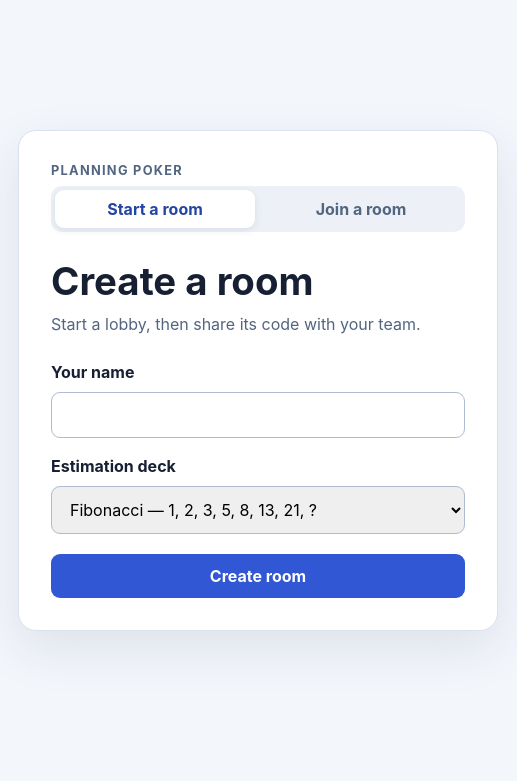
Test: lobby synchronization › updates the participant list after polling
Type "Alex" into the field labelled "Your name". click: x=258, y=414
box: [51,392,465,438]
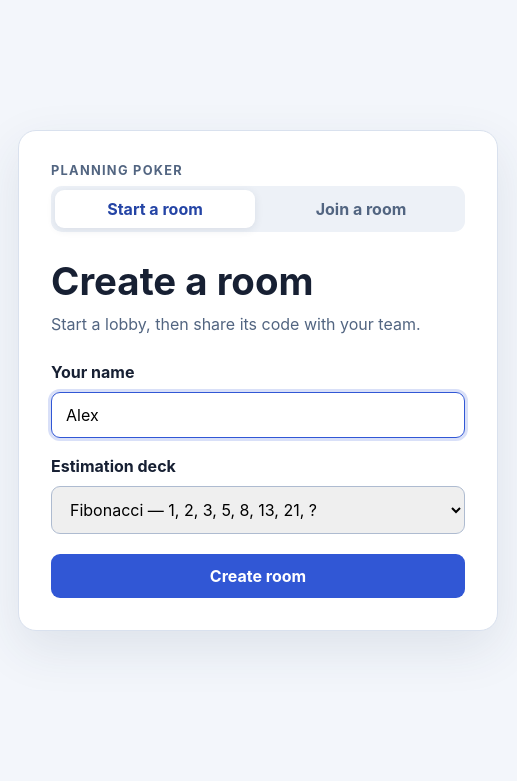
Click the button "Create room". click: x=258, y=576
box: [51,554,465,598]
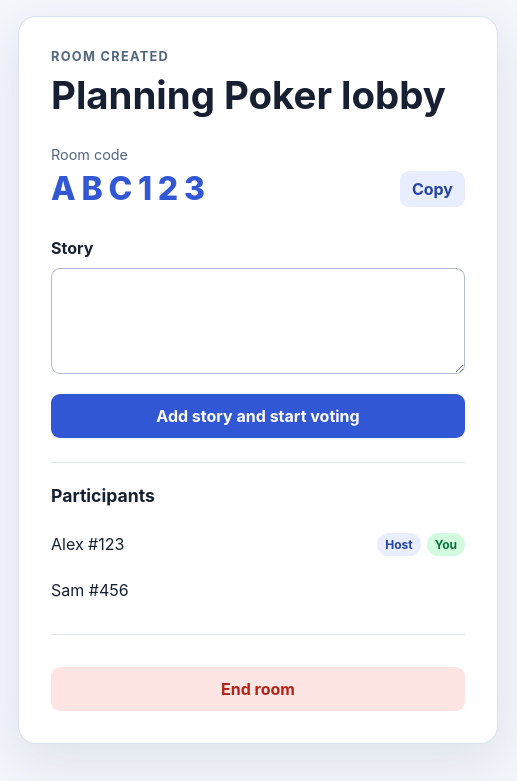
Check: the text "Alex #123" is shown, box [51,534,124,554]
Check: the text "Sam #456" is shown, box [51,580,129,600]
